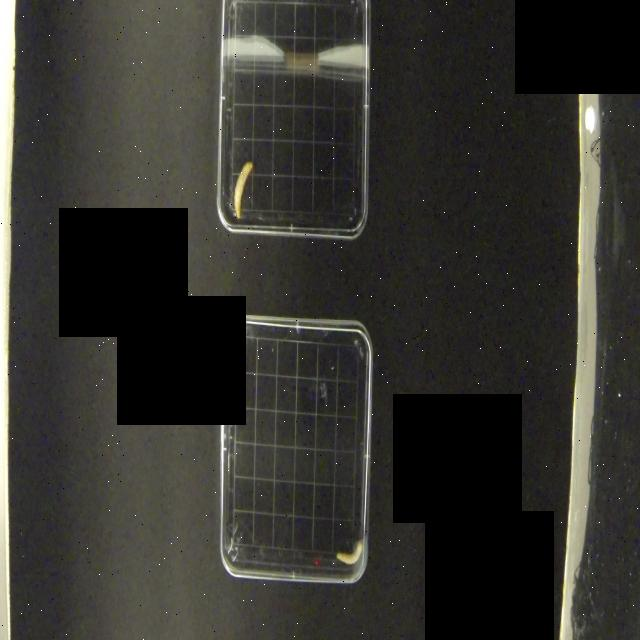larva: (233, 160, 254, 221), (336, 537, 364, 566)
